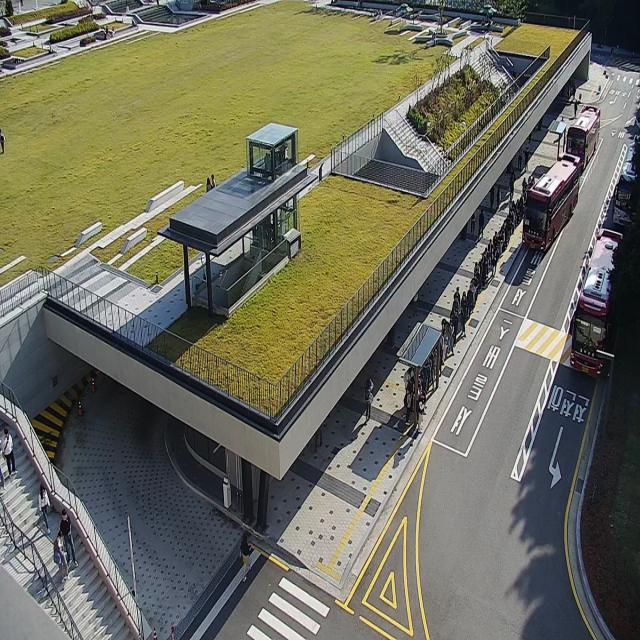queue: (416, 172, 536, 432)
